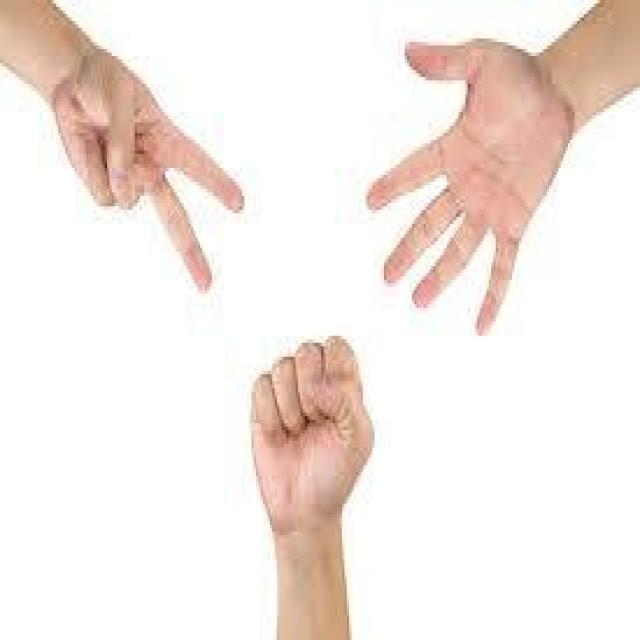paper: (367, 26, 588, 344)
rock: (240, 339, 382, 563)
scirssors: (30, 8, 278, 330)
